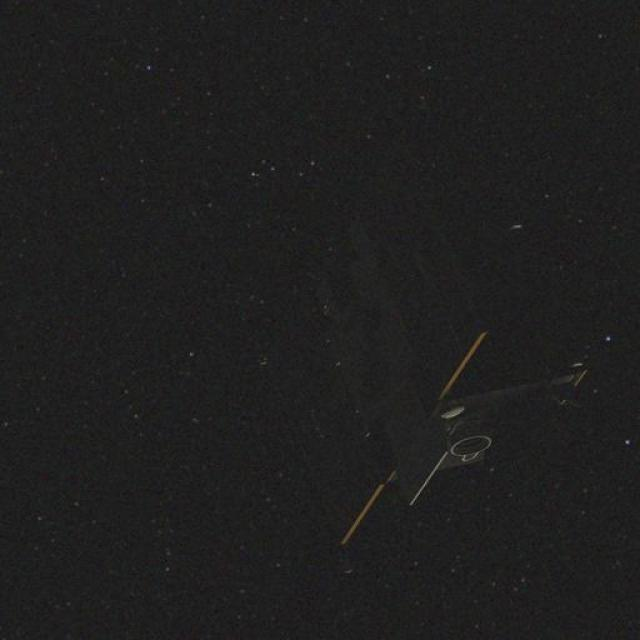proba_2: (317, 227, 561, 506)
